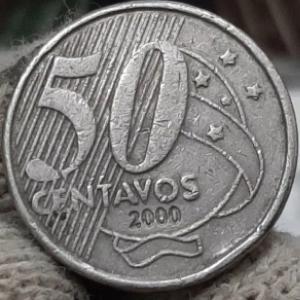50 cent: (0, 0, 299, 292)
